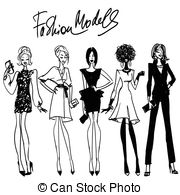face: (116, 40, 138, 70), (52, 45, 70, 69), (17, 44, 33, 69), (151, 42, 167, 62), (82, 46, 97, 67)
